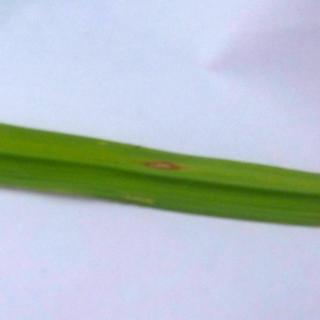Blast: (110, 144, 222, 186)
